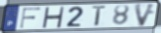2: (64, 6, 85, 28)
8: (112, 4, 132, 27)
F: (19, 6, 43, 29)
H: (41, 6, 66, 28)
T: (91, 5, 109, 28)
V: (133, 3, 157, 28)
